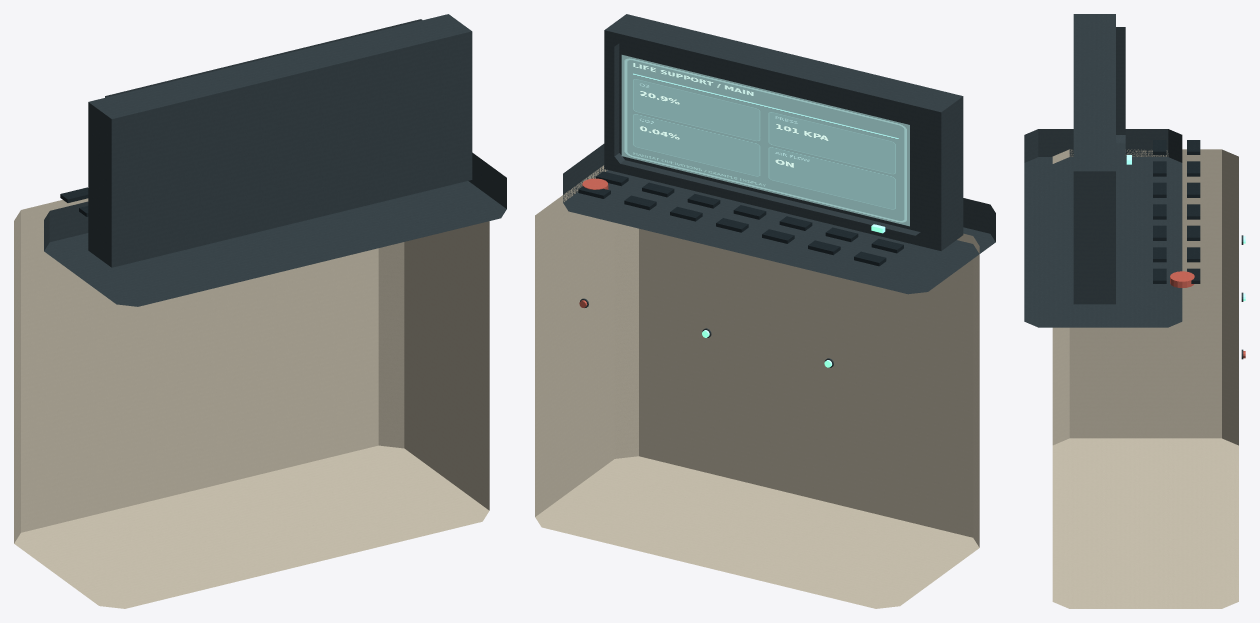
Rendered from life_support_console.glb.
3 renders of one model, left to right at view 1: azimuth 30°, elevation 25°; view 2: azimuth 150°, elevation 25°; view 3: azimuth 270°, elevation 25°, orthographic. The views are drawn at different scales.
Visible parts, largest first — view 1: static__cream, Console_Display_Housing__graphite, static__graphite, Display__graphite; view 2: static__cream, Display__ui_lss, Console_Display_Housing__graphite, static__graphite, Control_Keys__carbon, Display__graphite; view 3: static__cream, static__graphite, Console_Display_Housing__graphite, Control_Keys__carbon, Display__graphite, Emergency_Buttons__red.
Boxes of the visible parts, x1,y1,x2,y2 form: static__cream: [14, 198, 489, 608]; Console_Display_Housing__graphite: [88, 14, 472, 267]; static__graphite: [44, 152, 506, 306]; Display__graphite: [105, 19, 422, 97]; static__cream: [535, 165, 979, 608]; Display__ui_lss: [621, 55, 909, 226]; Console_Display_Housing__graphite: [604, 14, 963, 250]; static__graphite: [563, 144, 995, 294]; Control_Keys__carbon: [578, 171, 903, 266]; Display__graphite: [614, 39, 920, 235]; static__cream: [1052, 149, 1238, 608]; static__graphite: [1024, 129, 1182, 327]; Console_Display_Housing__graphite: [1073, 14, 1115, 304]; Control_Keys__carbon: [1153, 140, 1200, 283]; Display__graphite: [1116, 27, 1125, 281]; Emergency_Buttons__red: [1170, 271, 1194, 287].
Bounding box in the file's own units: 1.43 × 1.69 × 0.784.
Materials: 6 (6 with a texture image).
